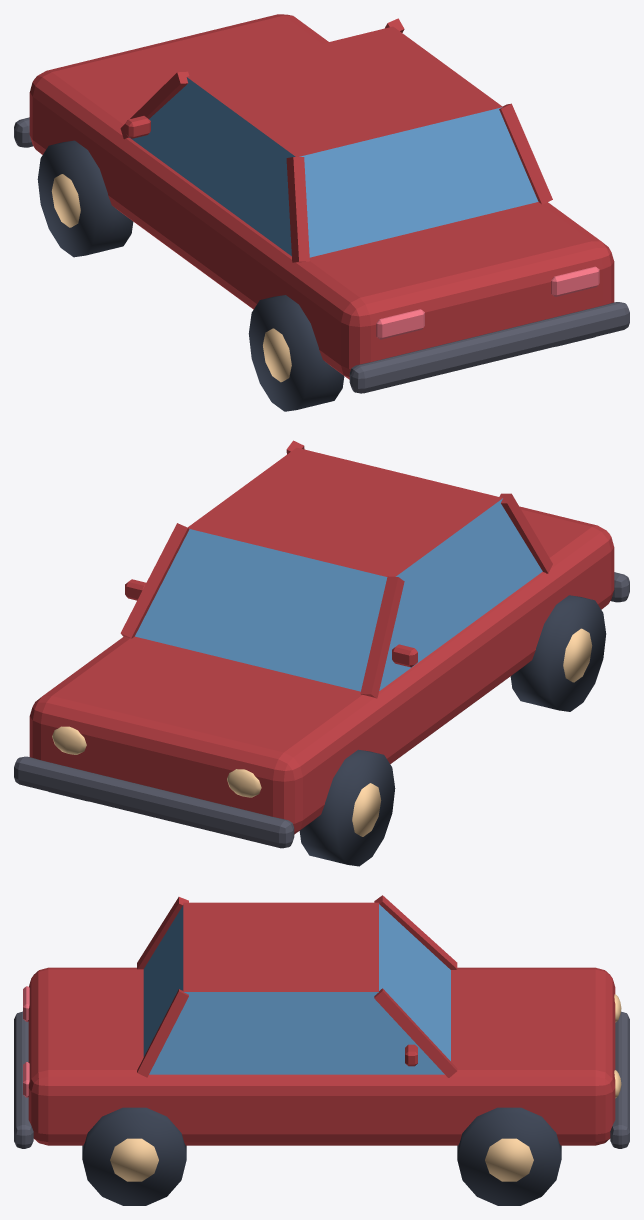
File: car.glb
3 views of the same model, one above another, from view 1: azimuth 30°, elevation 25°; view 2: azimuth 150°, elevation 25°; view 3: azimuth 270°, elevation 25° (orthographic). The views are drawn at different scales.
Visible parts, largest first — view 1: car, car_cabin, car_bumper1, car_wheel0, car_wheel2, car_cabin_post0, car_cabin_post1, car_hub2, car_hub0, car_tail1, car_tail0, car_cabin_post3; view 2: car_cabin, car, car_bumper0, car_wheel2, car_wheel0, car_cabin_post3, car_cabin_post2, car_cabin_post0, car_hub0, car_hub2, car_light1, car_light0; view 3: car, car_cabin, car_wheel1, car_wheel3, car_bumper0, car_bumper1, car_hub1, car_hub3, car_cabin_post2, car_cabin_post1, car_cabin_post3, car_cabin_post0.
Boxes of the visible parts, x1,y1,x2,y2 form: car: (29,14,614,379); car_cabin: (129,26,538,257); car_bumper1: (349,302,629,393); car_wheel0: (37,140,133,257); car_wheel2: (248,295,344,411); car_cabin_post0: (286,157,309,262); car_cabin_post1: (499,103,552,204); car_hub2: (263,328,291,382); car_hub0: (51,174,80,227); car_tail1: (551,266,599,296); car_tail0: (376,309,424,339); car_cabin_post3: (120,71,189,139); car_cabin: (135,447,542,691); car: (29,506,614,834); car_bumper0: (14,756,294,848); car_wheel2: (510,595,606,711); car_wheel0: (299,749,395,866); car_cabin_post3: (360,576,404,698); car_cabin_post2: (120,523,189,638); car_cabin_post0: (499,493,552,573); car_hub0: (352,783,381,836); car_hub2: (563,628,592,682); car_light1: (52,726,86,754); car_light0: (227,769,261,797); car: (28,967,615,1145); car_cabin: (143,902,450,1074); car_wheel1: (457,1107,561,1205); car_wheel3: (82,1107,186,1205); car_bumper0: (610,1011,629,1148); car_bumper1: (14,1011,33,1148); car_hub1: (485,1138,533,1181); car_hub3: (110,1138,158,1181); car_cabin_post2: (374,988,457,1077); car_cabin_post1: (137,989,188,1077); car_cabin_post3: (374,895,457,969); car_cabin_post0: (137,897,188,969).
Size of the model in its own units: 1.9 by 1.34 by 3.78.
